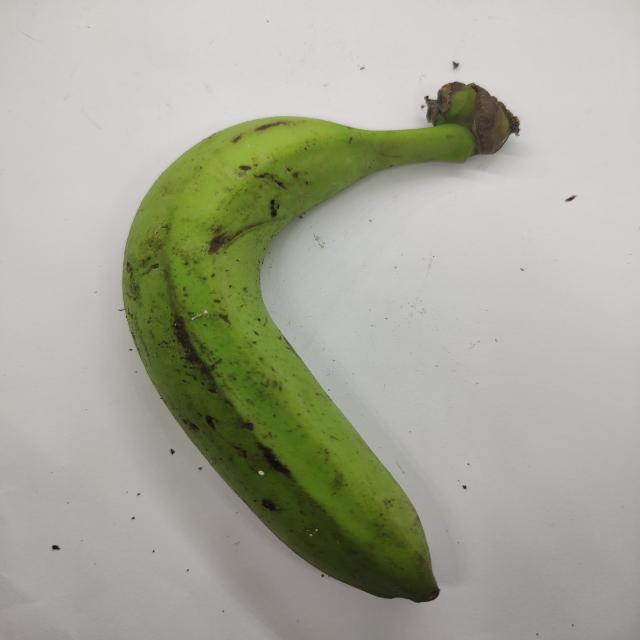Raw: (90, 50, 569, 620)
